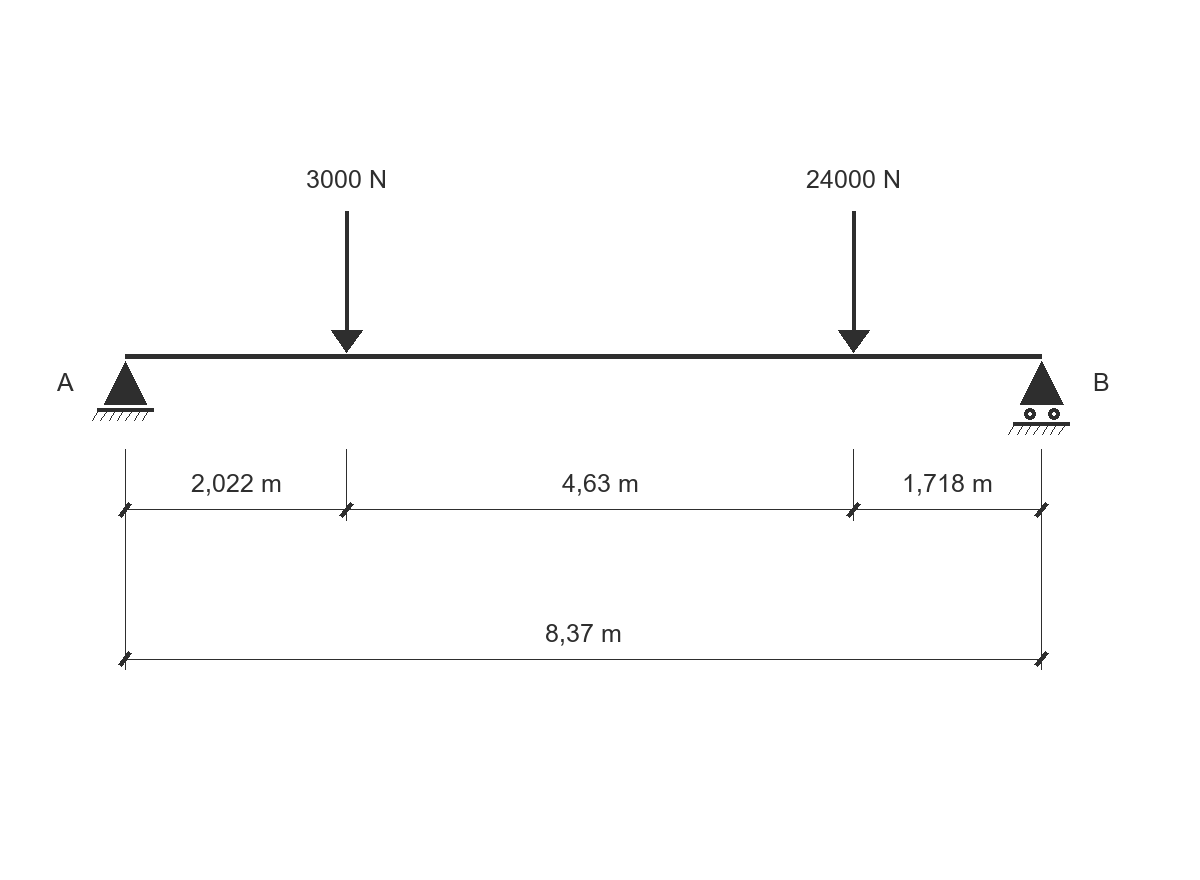pin_support: (92, 361, 154, 421)
point_load: (331, 211, 363, 353), (838, 211, 870, 353)
roller_support: (1008, 361, 1070, 435)
